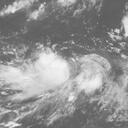cyclone: (32, 51, 71, 87)
